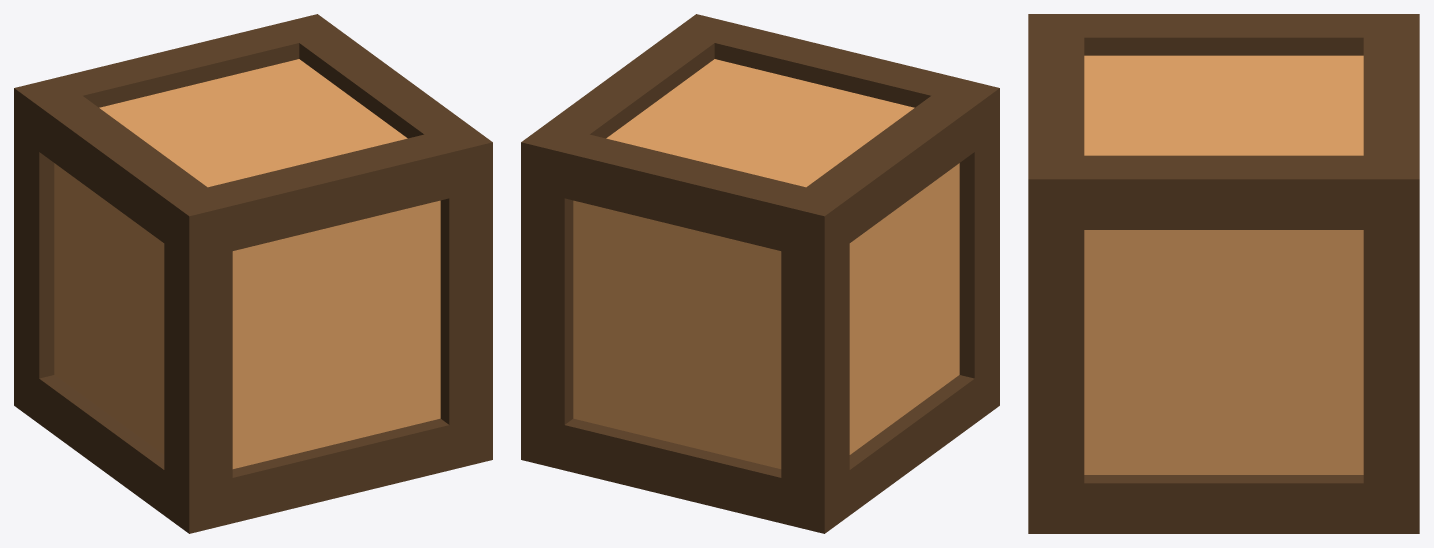
File: prop_crate.fbx
3 renders of one model, left to right at view 1: azimuth 30°, elevation 25°; view 2: azimuth 150°, elevation 25°; view 3: azimuth 270°, elevation 25°, orthographic. The views are drawn at different scales.
Visible parts, largest first — view 1: create; view 2: create; view 3: create.
Boxes of the visible parts, <box> form: create: <box>14,14,492,533</box>; create: <box>521,14,999,533</box>; create: <box>1028,14,1419,533</box>.
Size of the model in its own units: 6.65 by 6.65 by 6.65.
